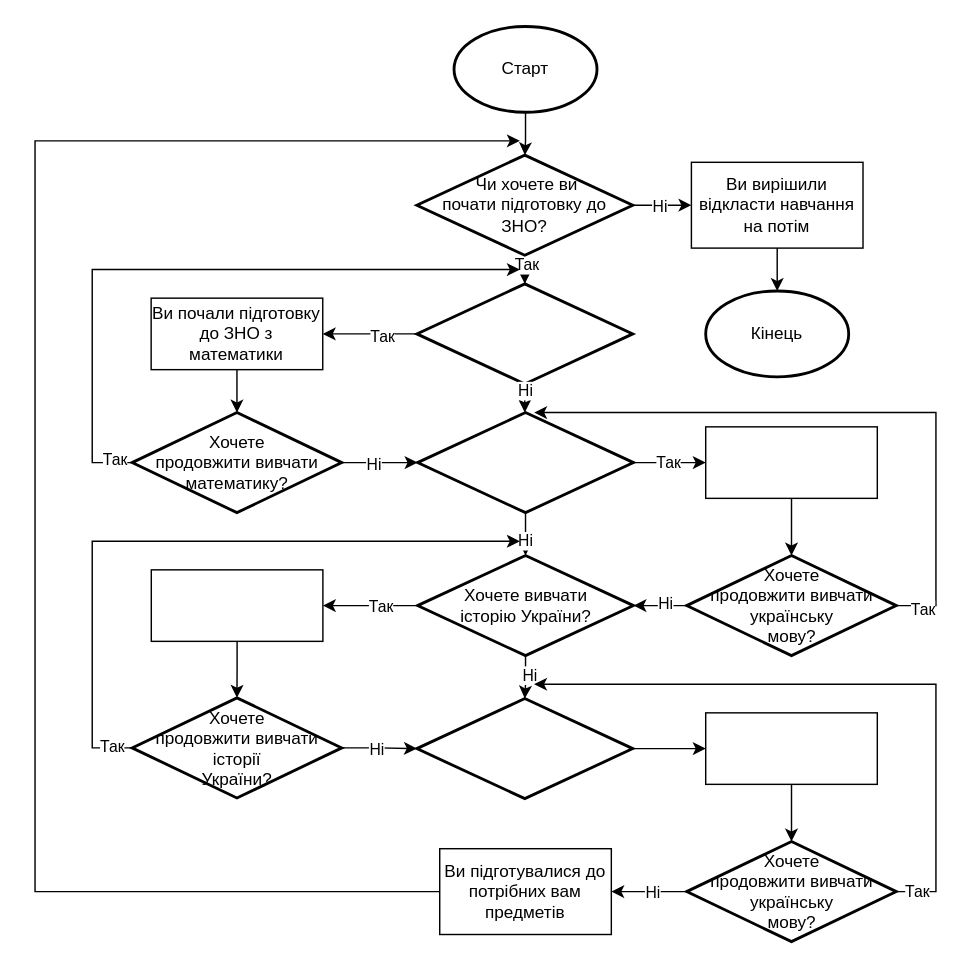
Image size: 972x967. Some labels were removed from this diagram. The centre of each missing label's shape, as x and y in pixels:
"Ви почали підготовку до ЗНО з англійської мови" goes at point (790, 747).
"Ви почали підготовку до ЗНО з української мови" goes at point (790, 461).
"Ви почали підготовку до ЗНО з історії України" goes at point (236, 604).
"Хочете вивчати англійську мову?" goes at point (524, 747).
"Хочете вивчати математику?" goes at point (524, 333).
"Хочете вивчати українську мову?" goes at point (524, 461).
